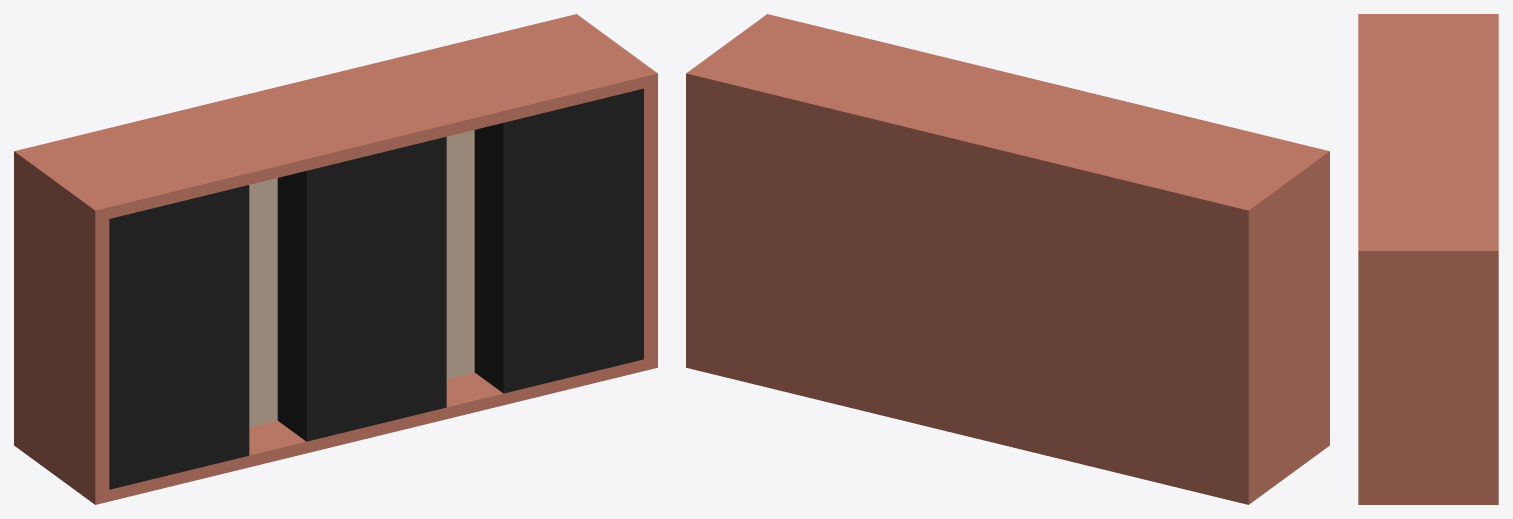
File: Block1B.fbx
3 views of the same model, side by side, from view 1: azimuth 30°, elevation 25°; view 2: azimuth 150°, elevation 25°; view 3: azimuth 270°, elevation 25° (orthographic). The views are drawn at different scales.
Parts seen in each view (by area): view 1: Block1B; view 2: Block1B; view 3: Block1B.
Part boxes in pixels (box(x1,y1,x2,y2)): Block1B: box(14, 14, 657, 504); Block1B: box(686, 14, 1329, 504); Block1B: box(1358, 14, 1498, 504).
Bounding box in the file's own units: 2 × 1 × 0.5.
